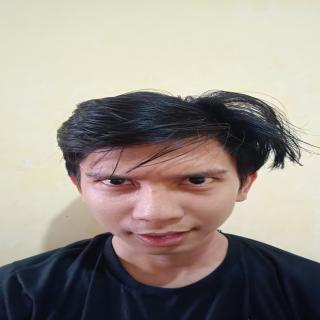Marah: (70, 111, 244, 257)
